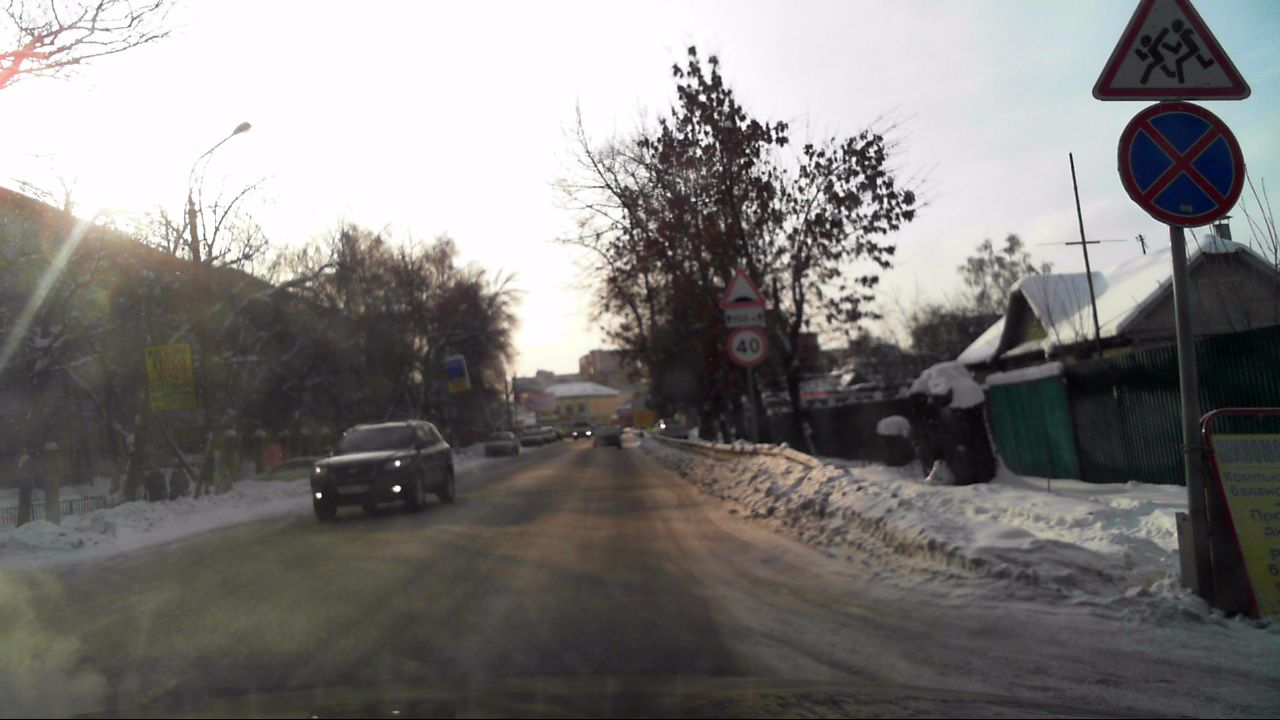No Parking: (1116, 101, 1246, 231)
speed_warning_40: (727, 330, 766, 366)
